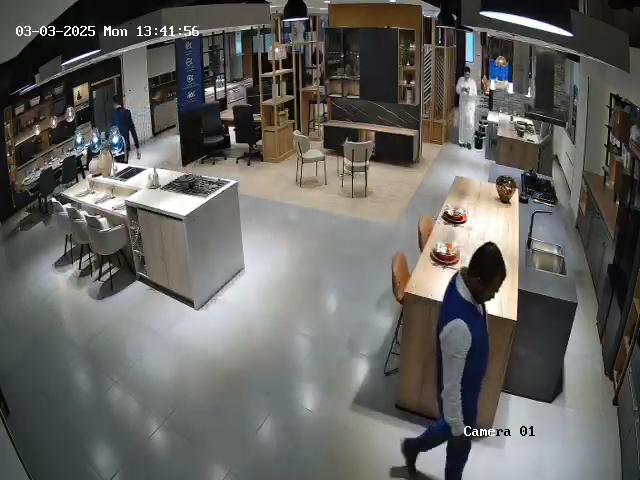employee: (400, 241, 507, 480), (105, 97, 137, 157)
male: (456, 66, 478, 149)
